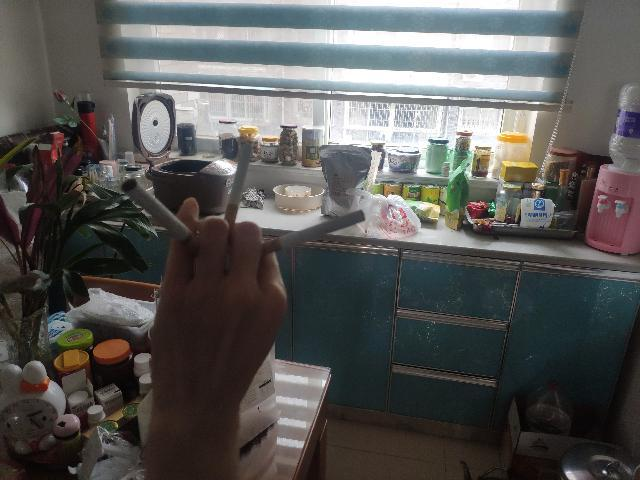Smoking: (122, 177, 210, 264), (252, 210, 368, 260), (218, 142, 256, 246)
